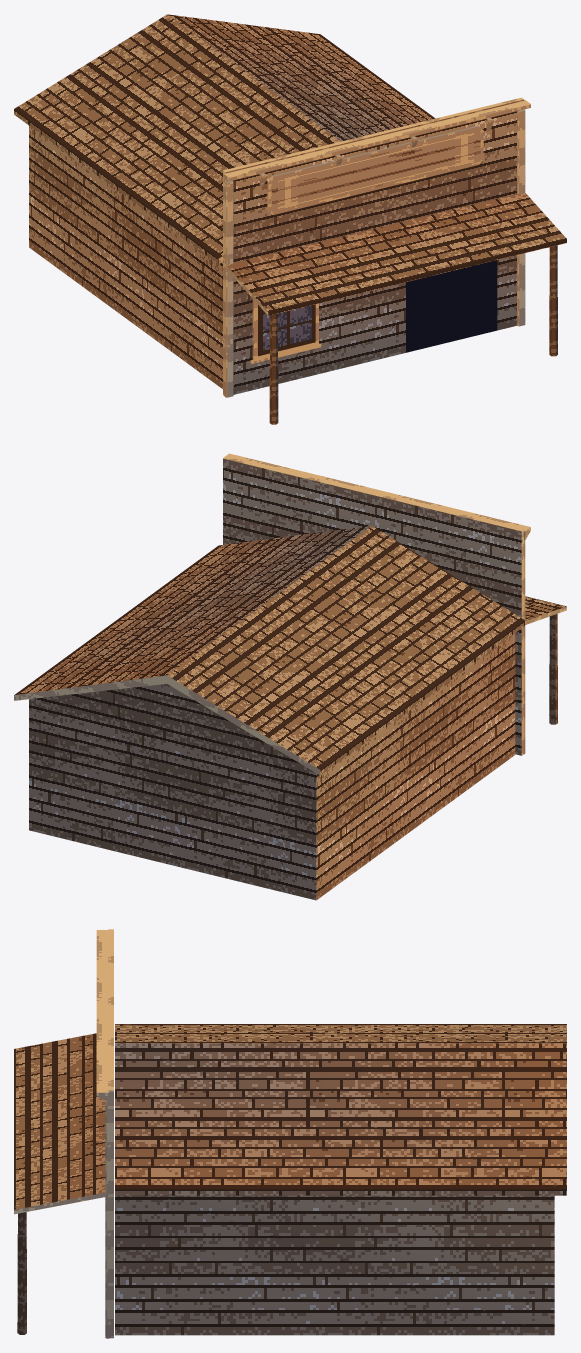
The model's file is wtown.store__entry.glb.
The picture shows the model from 3 angles, top to bottom: view 1: azimuth 30°, elevation 25°; view 2: azimuth 150°, elevation 25°; view 3: azimuth 270°, elevation 25°; orthographic projection. The views are drawn at different scales.
Visible parts, largest first — view 1: kit_roof, kit_front, kit_body, kit_porch, kit_card_panes, kit_trim, kit_windows; view 2: kit_body, kit_roof, kit_front, kit_trim, kit_porch; view 3: kit_roof, kit_body, kit_porch, kit_trim, kit_front.
Boxes of the visible parts, x1,y1,x2,y2 form: kit_roof: [14, 14, 435, 264]; kit_front: [223, 97, 524, 395]; kit_body: [29, 126, 222, 388]; kit_porch: [226, 193, 566, 424]; kit_card_panes: [258, 129, 497, 356]; kit_trim: [223, 100, 530, 397]; kit_windows: [250, 299, 321, 363]; kit_body: [29, 633, 515, 900]; kit_roof: [14, 525, 524, 775]; kit_front: [223, 456, 524, 755]; kit_trim: [224, 453, 530, 754]; kit_porch: [525, 596, 566, 724]; kit_roof: [115, 1024, 566, 1195]; kit_body: [115, 1195, 554, 1335]; kit_porch: [14, 1033, 105, 1334]; kit_trim: [96, 930, 109, 1338]; kit_front: [108, 929, 113, 1338].
Bounding box in the file's own units: 8 × 5.6 × 11.32.
Materials: 7 (7 with a texture image).
